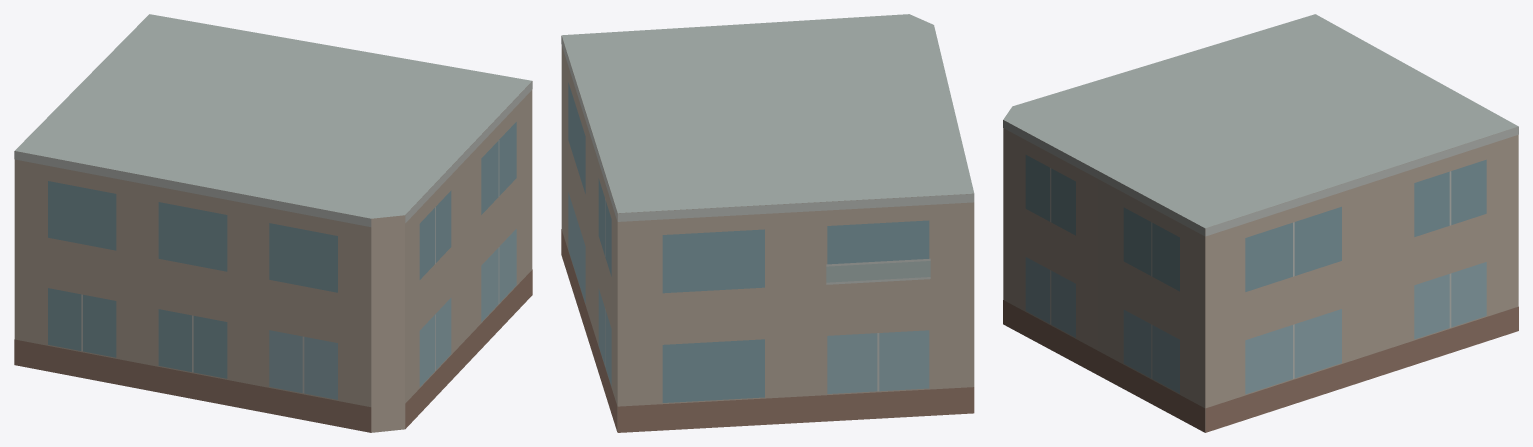
Rendered from survey-upis-32905745.glb.
3 views of the same model, side by side, from view 1: azimuth 30°, elevation 25°; view 2: azimuth 150°, elevation 25°; view 3: azimuth 270°, elevation 25° (orthographic). The views are drawn at different scales.
Parts seen in each view (by area): view 1: survey-upis-32905745.tmp; view 2: survey-upis-32905745.tmp; view 3: survey-upis-32905745.tmp.
Boxes of the visible parts, bbox=[...] form: survey-upis-32905745.tmp: bbox=[14, 14, 532, 432]; survey-upis-32905745.tmp: bbox=[561, 14, 974, 432]; survey-upis-32905745.tmp: bbox=[1003, 14, 1518, 432].
Size of the model in its own units: 13.73 by 6.1 by 13.95.
